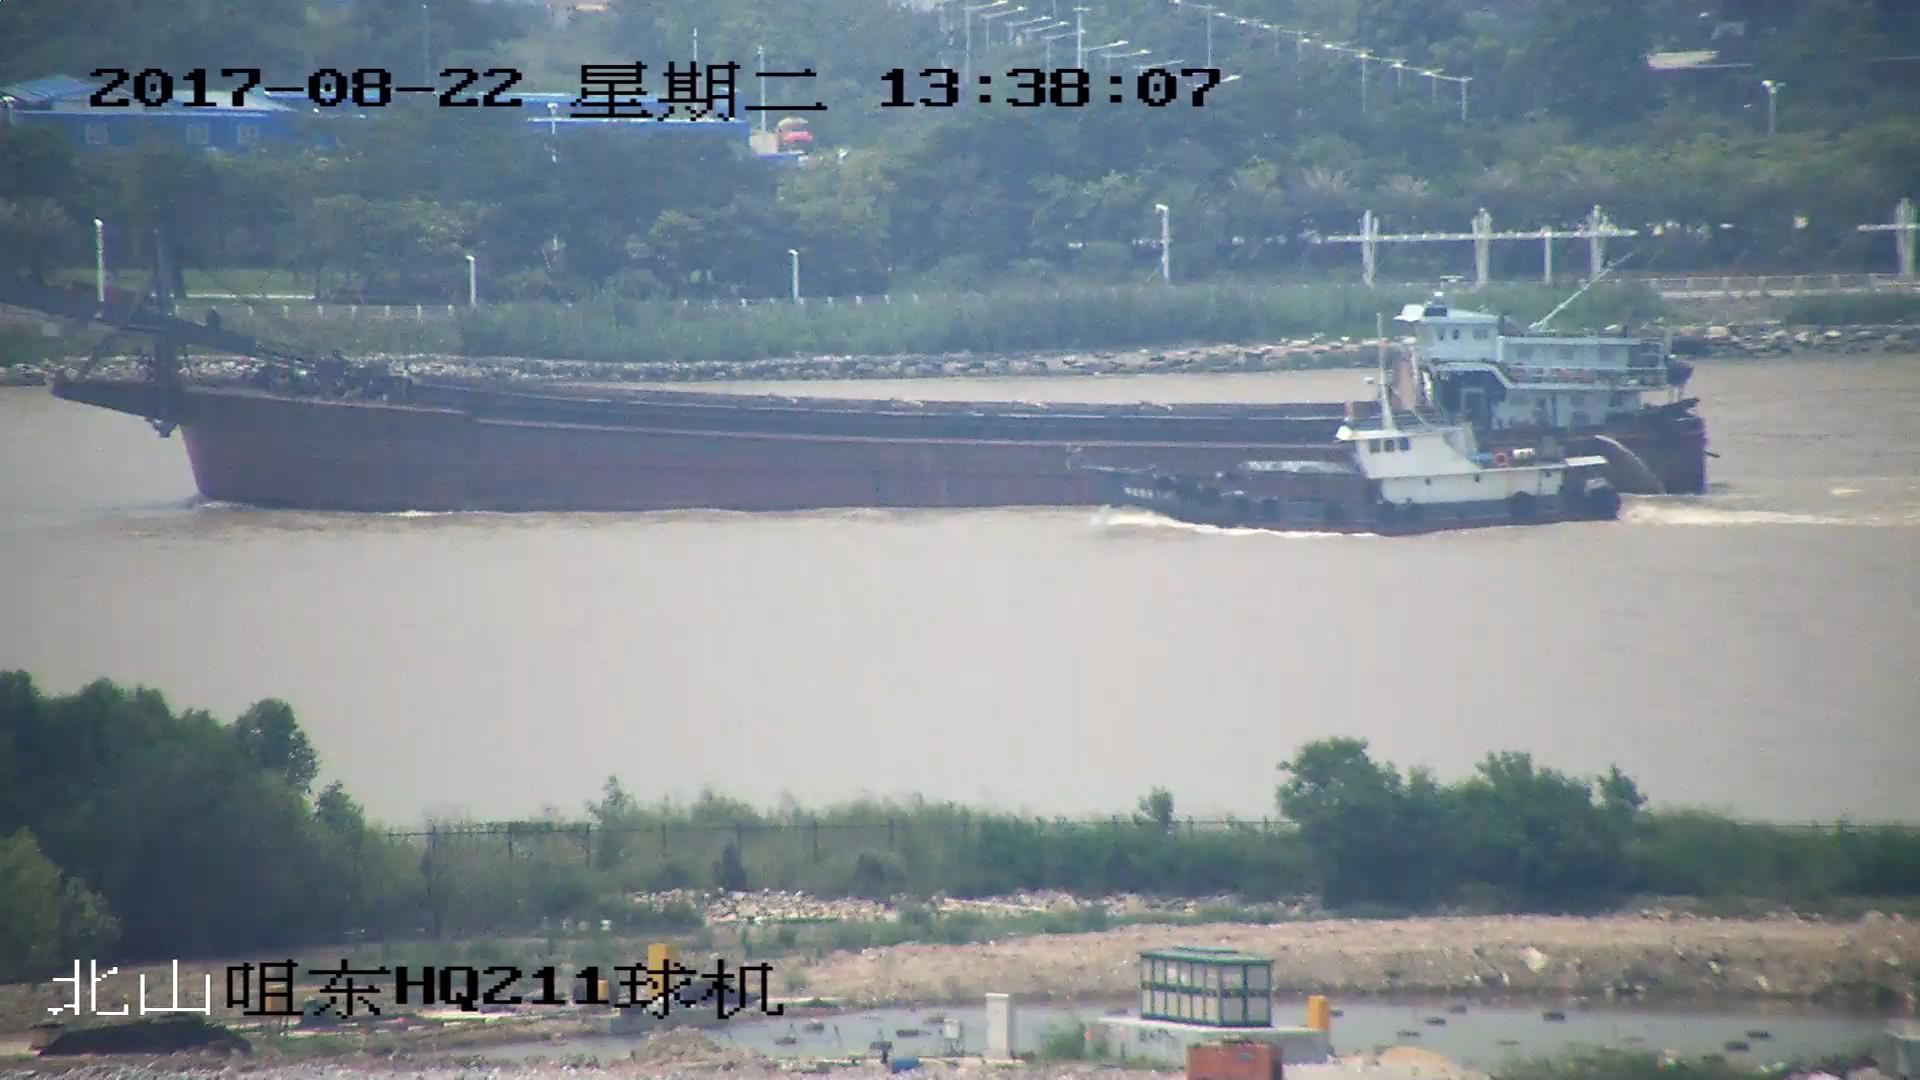bulk cargo carrier: (1, 274, 1719, 514)
passenger ship: (1104, 373, 1625, 535)
